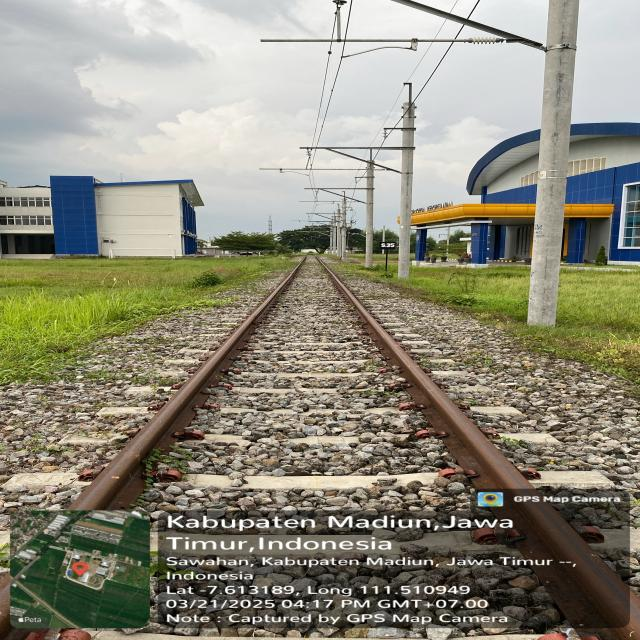rail-detection: (316, 256, 640, 640), (69, 256, 306, 510)
